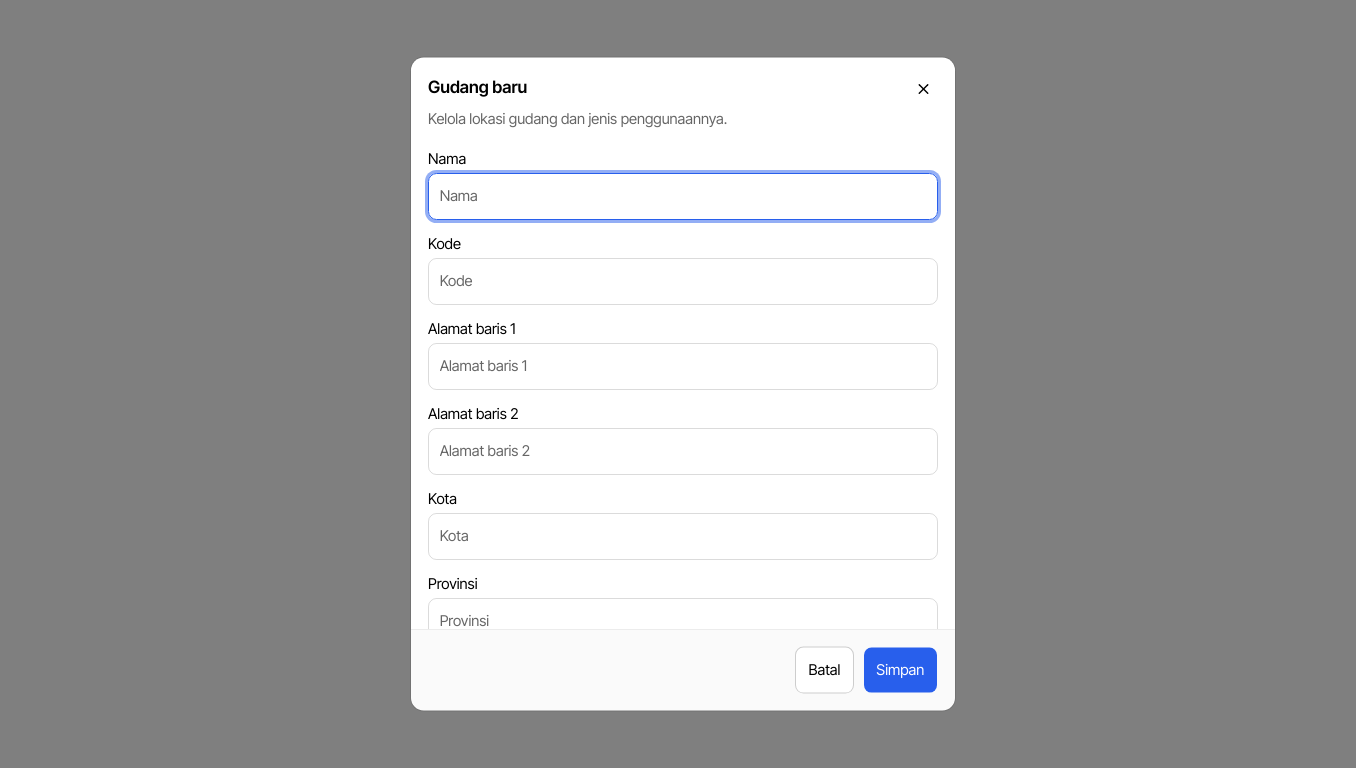
Test: WarehouseFormDialog branches › blocks submit when name is empty
Expected: the heading "Gudang baru" is shown, [428,75,527,100]
Click the button "Simpan": (900, 670) [863,647,938,693]
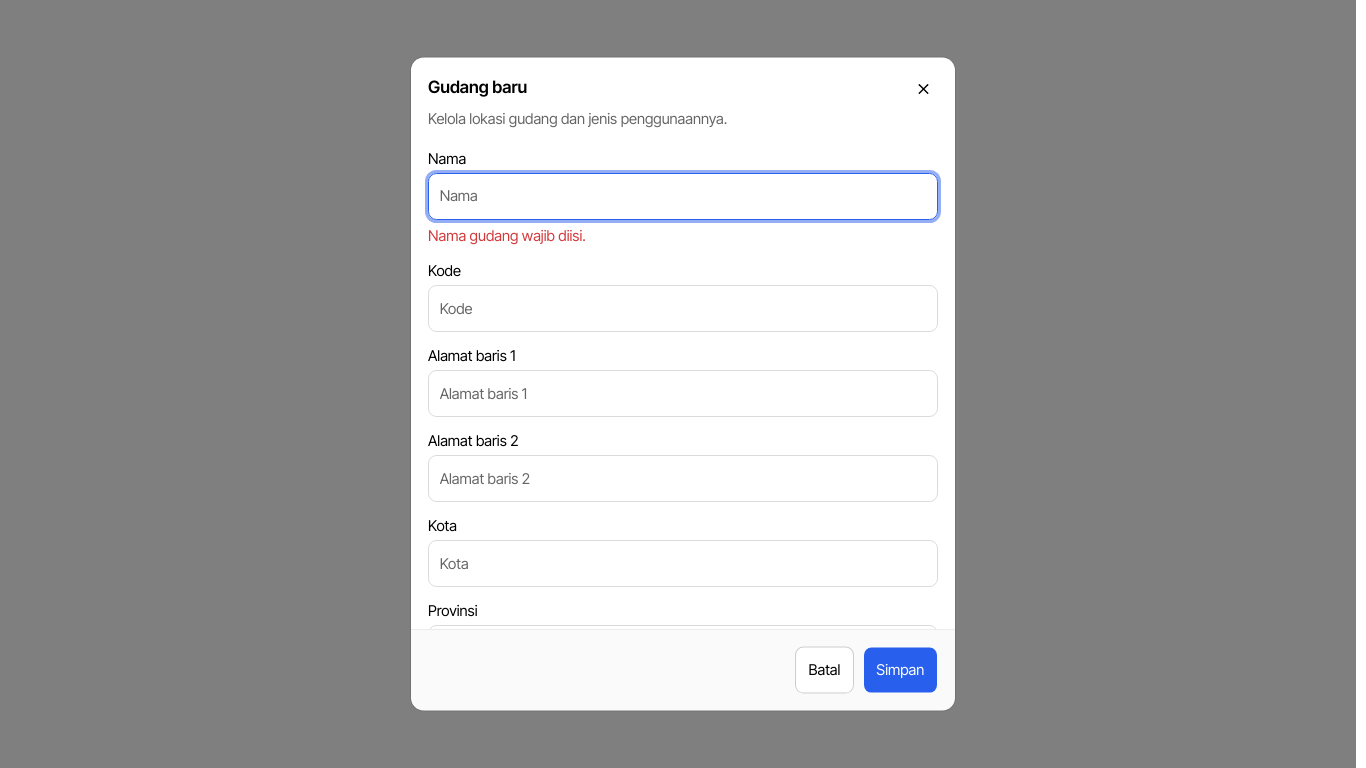
Expected: the text "Nama gudang wajib diisi." is shown, [428,226,586,244]
